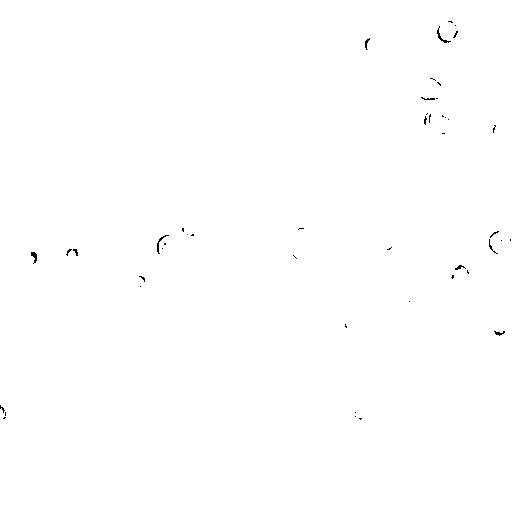micro-algae: (339, 19, 479, 143), (383, 21, 473, 106), (215, 91, 293, 172), (82, 123, 159, 199), (122, 67, 190, 131), (228, 119, 269, 160), (87, 263, 128, 301), (60, 293, 97, 329), (389, 282, 427, 316), (423, 107, 456, 137), (45, 93, 77, 123), (155, 232, 184, 263), (276, 21, 304, 50), (143, 253, 173, 280), (445, 260, 471, 290), (485, 227, 511, 257), (133, 176, 161, 203), (435, 15, 462, 43), (171, 419, 201, 443), (415, 76, 443, 101), (311, 293, 337, 319), (488, 114, 512, 141), (47, 486, 73, 510), (203, 375, 227, 401), (365, 276, 391, 298), (15, 248, 38, 270), (179, 217, 202, 239), (414, 423, 437, 445), (373, 232, 397, 253), (173, 141, 194, 164), (362, 33, 384, 53), (291, 224, 312, 243), (62, 244, 82, 263), (211, 278, 231, 297), (267, 0, 293, 13), (129, 271, 147, 289), (489, 317, 507, 335), (345, 312, 359, 331), (290, 246, 307, 261), (352, 405, 367, 422), (501, 19, 511, 43), (210, 22, 221, 39), (44, 0, 69, 7), (2, 401, 9, 423), (179, 505, 195, 511)
